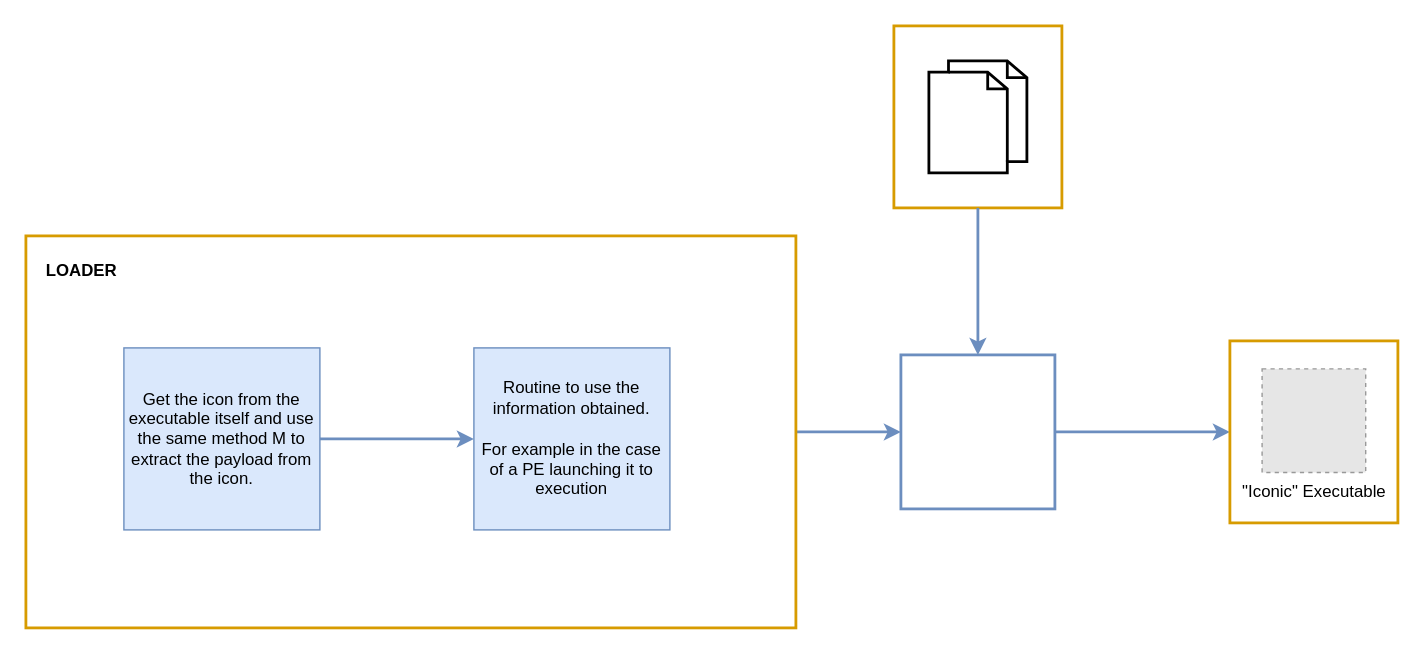
Image size: 1422x652. Some labels were removed from this diagram. Grey dashed boxes stand in for pictures. The shapes that lost their labels are listed below. From the top down, each one's box as (x1, y1, x2, y2) in pixels, then its label:
(927, 59, 1028, 174): ICO
(899, 353, 1056, 510): Compile the executable by adding the icon with the hidden payload
